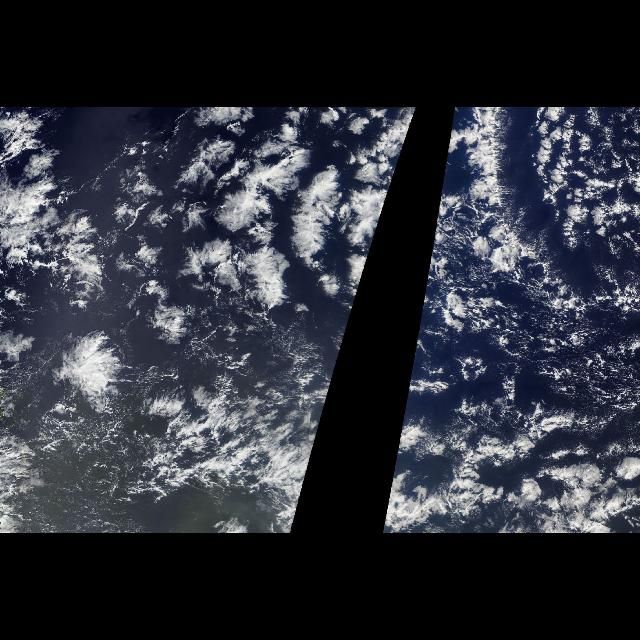Flower: (130, 107, 416, 379), (410, 107, 552, 379)
Sugar: (0, 302, 302, 534), (515, 302, 635, 430)
